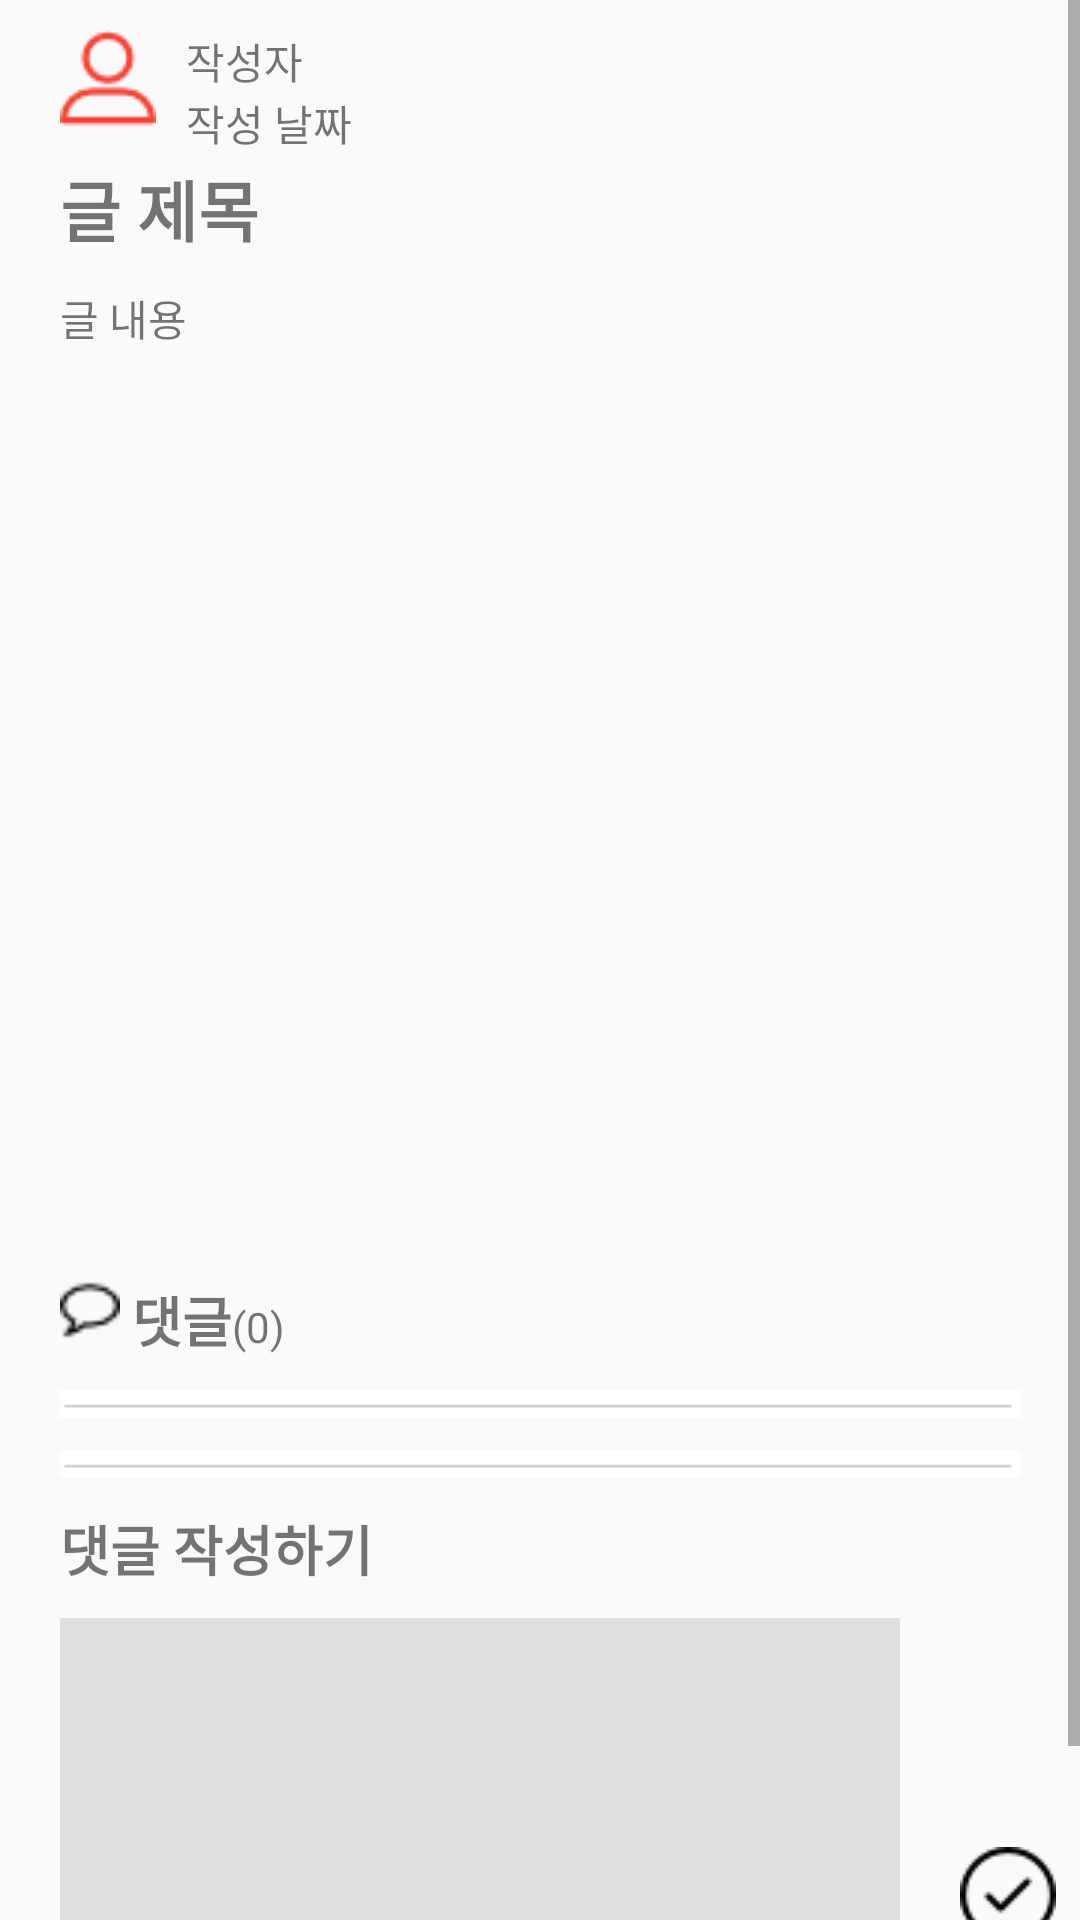

Icons on this 1080 x 1920 Android screen, each with its box as (x1, y1, x2, y2):
profile: (60, 30, 156, 126)
